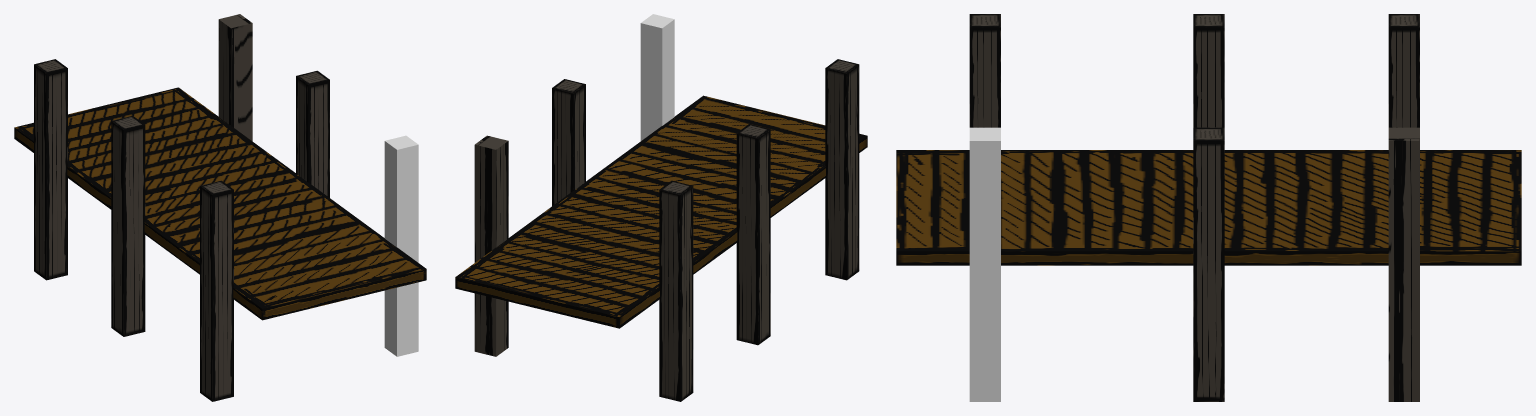
The model's file is quai.fbx.
3 renders of one model, left to right at view 1: azimuth 30°, elevation 25°; view 2: azimuth 150°, elevation 25°; view 3: azimuth 270°, elevation 25°, orthographic. The views are drawn at different scales.
Visible parts, largest first — view 1: Cube, Cube.008, Cube.006, Cube.007, Cube.003, Cube.002, Cube.001; view 2: Cube, Cube.006, Cube.008, Cube.007, Cube.002, Cube.003, Cube.001; view 3: Cube, Cube.001, Cube.002, Cube.003, Cube.006, Cube.007, Cube.008.
Part boxes in pixels (x1,y1,x2,y2): Cube: (14, 87, 426, 320); Cube.008: (111, 115, 145, 336); Cube.006: (34, 59, 67, 280); Cube.007: (200, 180, 233, 401); Cube.003: (384, 135, 418, 356); Cube.002: (218, 14, 252, 141); Cube.001: (296, 70, 329, 197); Cube: (455, 95, 867, 328); Cube.006: (659, 180, 693, 401); Cube.008: (736, 124, 770, 345); Cube.007: (825, 59, 859, 280); Cube.002: (474, 135, 508, 356); Cube.003: (640, 14, 674, 140); Cube.001: (552, 79, 585, 205); Cube: (896, 150, 1521, 265); Cube.001: (1193, 127, 1224, 401); Cube.002: (1388, 127, 1419, 401); Cube.003: (969, 127, 1000, 401); Cube.006: (1388, 14, 1419, 127); Cube.007: (969, 14, 1000, 127); Cube.008: (1193, 14, 1224, 127).
Bounding box in the file's own units: 1012 × 970 × 2107.
Materials: 2 (2 with a texture image).
